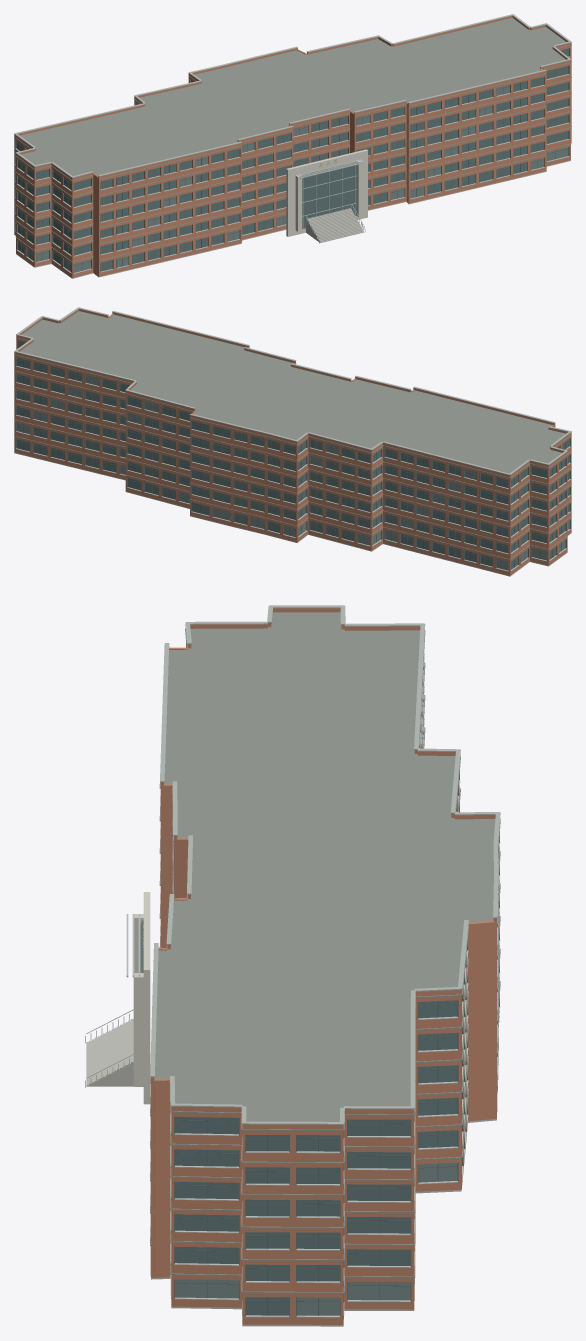
The model's file is south_library.glb.
3 views of the same model, one above another, from view 1: azimuth 30°, elevation 25°; view 2: azimuth 150°, elevation 25°; view 3: azimuth 270°, elevation 25° (orthographic). The views are drawn at different scales.
Parts seen in each view (by area): view 1: south_library_FacultyRoof, south_library_LibraryTerracotta, south_library_WindowGlass, south_library_WindowAluminium, south_library_FacultyDarkPanel, south_library_WindowReveal, south_library_WindowRubber, south_library_WindowGlassLight, south_library_Teaching5TileJoint, south_library_LibraryIvory, south_library_EntryStone; view 2: south_library_LibraryTerracotta, south_library_FacultyRoof, south_library_WindowGlass, south_library_FacultyDarkPanel, south_library_WindowAluminium, south_library_WindowReveal, south_library_WindowRubber, south_library_WindowGlassLight, south_library_Teaching5TileJoint, south_library_EntryStone; view 3: south_library_FacultyRoof, south_library_LibraryTerracotta, south_library_WindowGlass, south_library_Teaching5TileJoint, south_library_FacultyDarkPanel, south_library_WindowAluminium, south_library_WindowGlassLight, south_library_EntryStone, south_library_LibraryIvory, south_library_WindowRubber, south_library_WindowReveal.
Part boxes in pixels (<box>): south_library_FacultyRoof: <box>20,18,566,176</box>; south_library_LibraryTerracotta: <box>14,16,571,277</box>; south_library_WindowGlass: <box>16,48,569,271</box>; south_library_WindowAluminium: <box>15,56,569,273</box>; south_library_FacultyDarkPanel: <box>14,45,571,262</box>; south_library_WindowReveal: <box>15,48,570,273</box>; south_library_WindowRubber: <box>16,50,569,270</box>; south_library_WindowGlassLight: <box>27,85,568,272</box>; south_library_Teaching5TileJoint: <box>14,14,571,177</box>; south_library_LibraryIvory: <box>286,149,367,236</box>; south_library_EntryStone: <box>14,142,571,278</box>; south_library_LibraryTerracotta: <box>14,309,571,575</box>; south_library_FacultyRoof: <box>20,311,565,473</box>; south_library_WindowGlass: <box>16,341,569,569</box>; south_library_FacultyDarkPanel: <box>14,337,571,559</box>; south_library_WindowAluminium: <box>16,366,570,571</box>; south_library_WindowReveal: <box>15,341,570,571</box>; south_library_WindowRubber: <box>16,342,569,568</box>; south_library_WindowGlassLight: <box>16,375,569,570</box>; south_library_Teaching5TileJoint: <box>14,307,571,475</box>; south_library_EntryStone: <box>14,452,571,576</box>; south_library_FacultyRoof: <box>154,612,495,1121</box>; south_library_LibraryTerracotta: <box>150,608,499,1324</box>; south_library_WindowGlass: <box>140,923,457,1315</box>; south_library_Teaching5TileJoint: <box>150,605,500,1124</box>; south_library_FacultyDarkPanel: <box>150,616,500,1293</box>; south_library_WindowAluminium: <box>85,654,500,1317</box>; south_library_WindowGlassLight: <box>175,1162,457,1315</box>; south_library_EntryStone: <box>86,1017,499,1326</box>; south_library_LibraryIvory: <box>133,892,150,1104</box>; south_library_WindowRubber: <box>175,1001,457,1315</box>; south_library_WindowReveal: <box>141,642,499,1316</box>.
Bounding box in the file's own units: 123 × 22.51 × 41.57.
